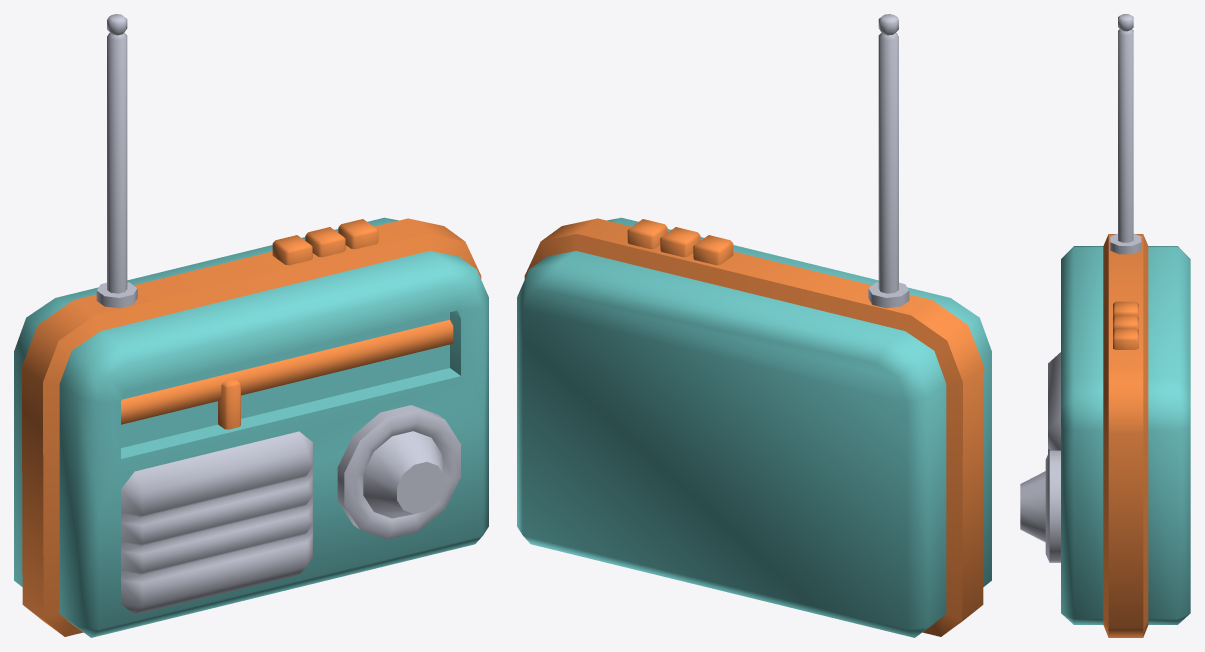
The model's file is radio.fbx.
3 views of the same model, side by side, from view 1: azimuth 30°, elevation 25°; view 2: azimuth 150°, elevation 25°; view 3: azimuth 270°, elevation 25° (orthographic). The views are drawn at different scales.
Parts seen in each view (by area): view 1: radio; view 2: radio; view 3: radio.
Part boxes in pixels (x1,y1,x2,y2): radio: [14, 14, 488, 637]; radio: [517, 14, 991, 637]; radio: [1020, 14, 1190, 637].
Size of the model in its own units: 95.88 by 125 by 39.43.
